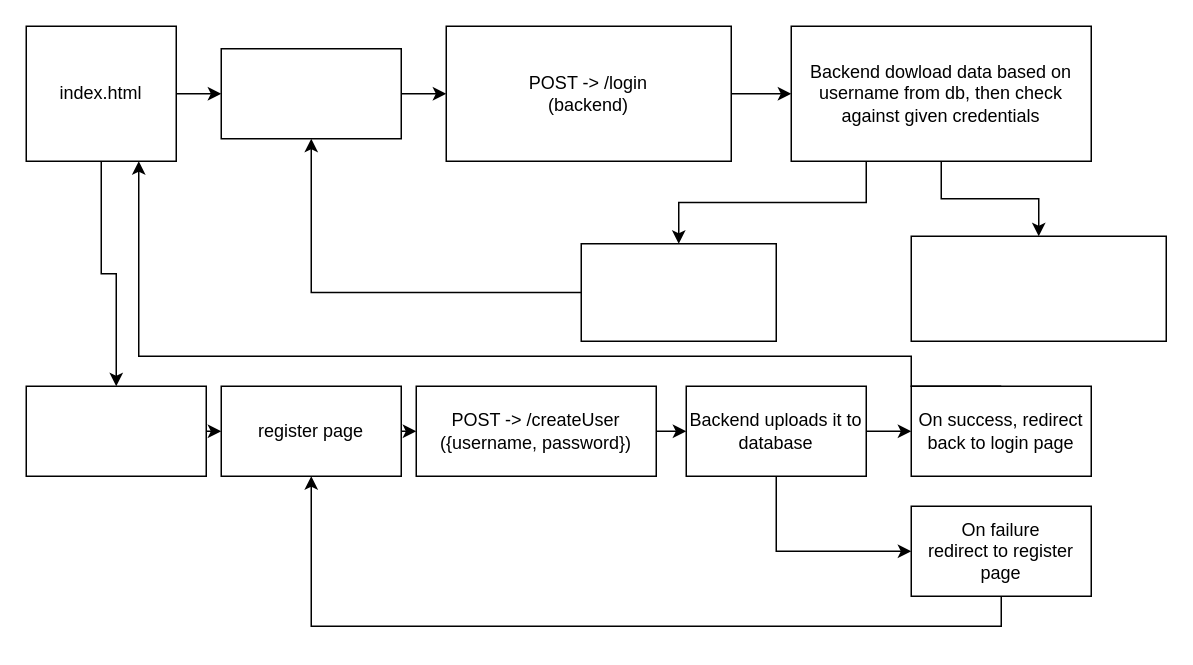
Image size: 1193x665. Some labels were removed from this diagram. The box of each missing label's shape, as (x1, y1, x2, y2) in pixels:
If failed, do not redirect and need to give new credentials: (580, 242, 776, 341)
If successfull redirect to mainpage.html, and send back a success code: (910, 235, 1166, 341)
login button: (220, 47, 401, 139)
register button: (25, 385, 206, 476)
